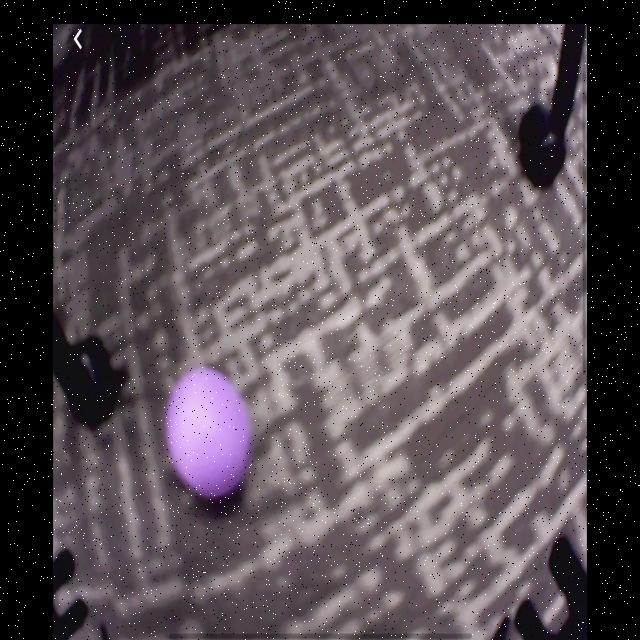ball: (167, 373, 248, 495)
